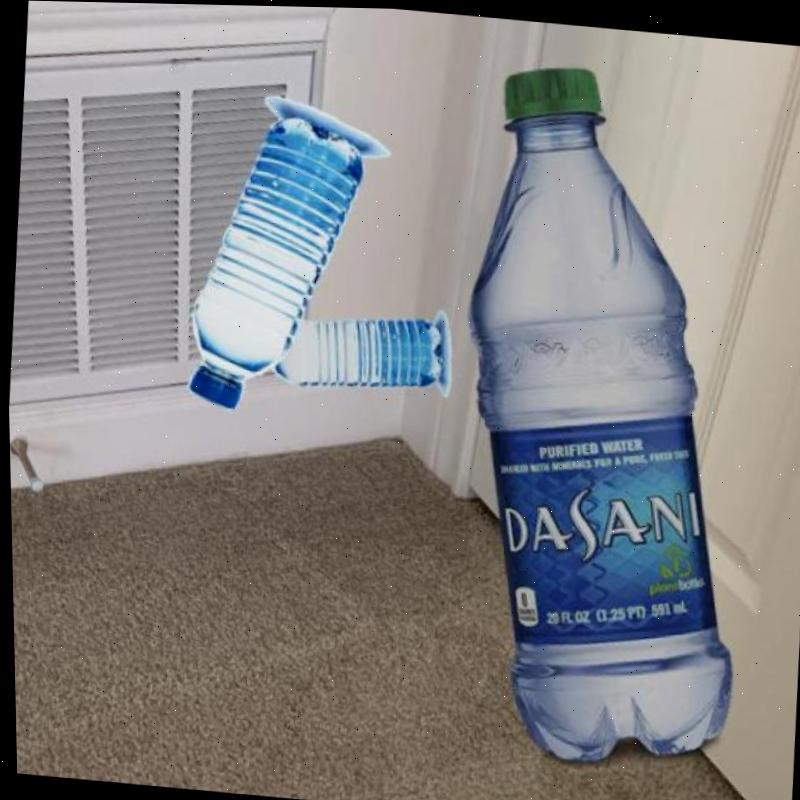botella: (431, 55, 774, 771), (176, 101, 371, 415), (271, 302, 442, 402)
